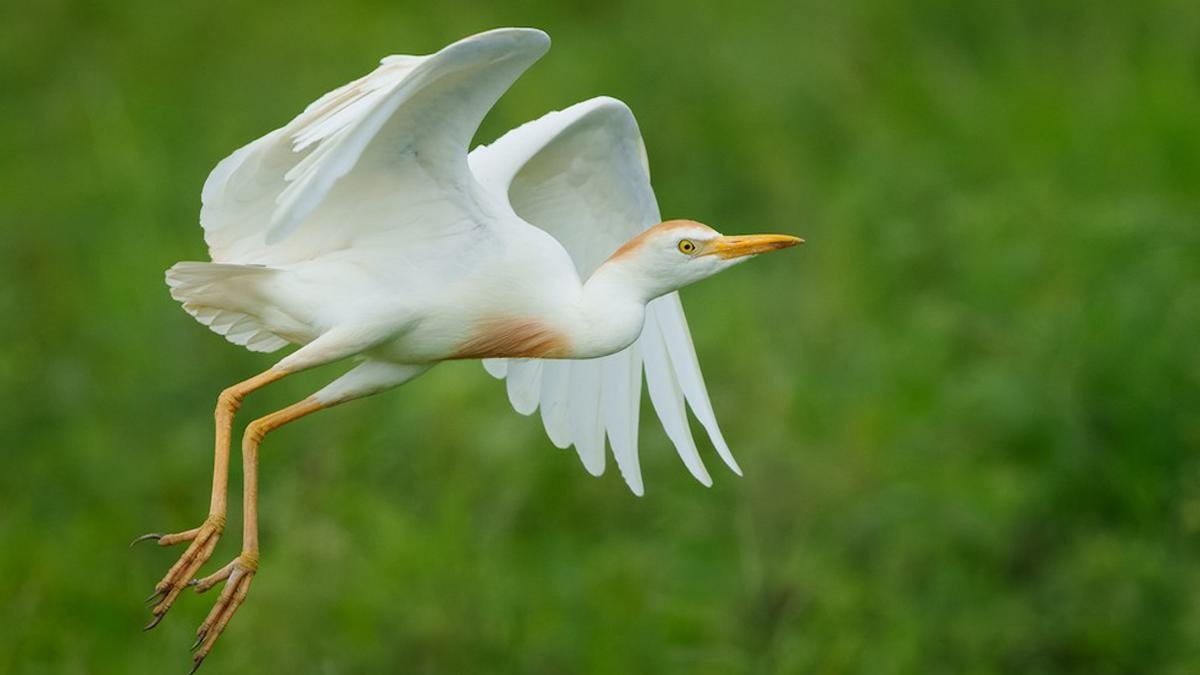egret: (85, 28, 811, 671)
